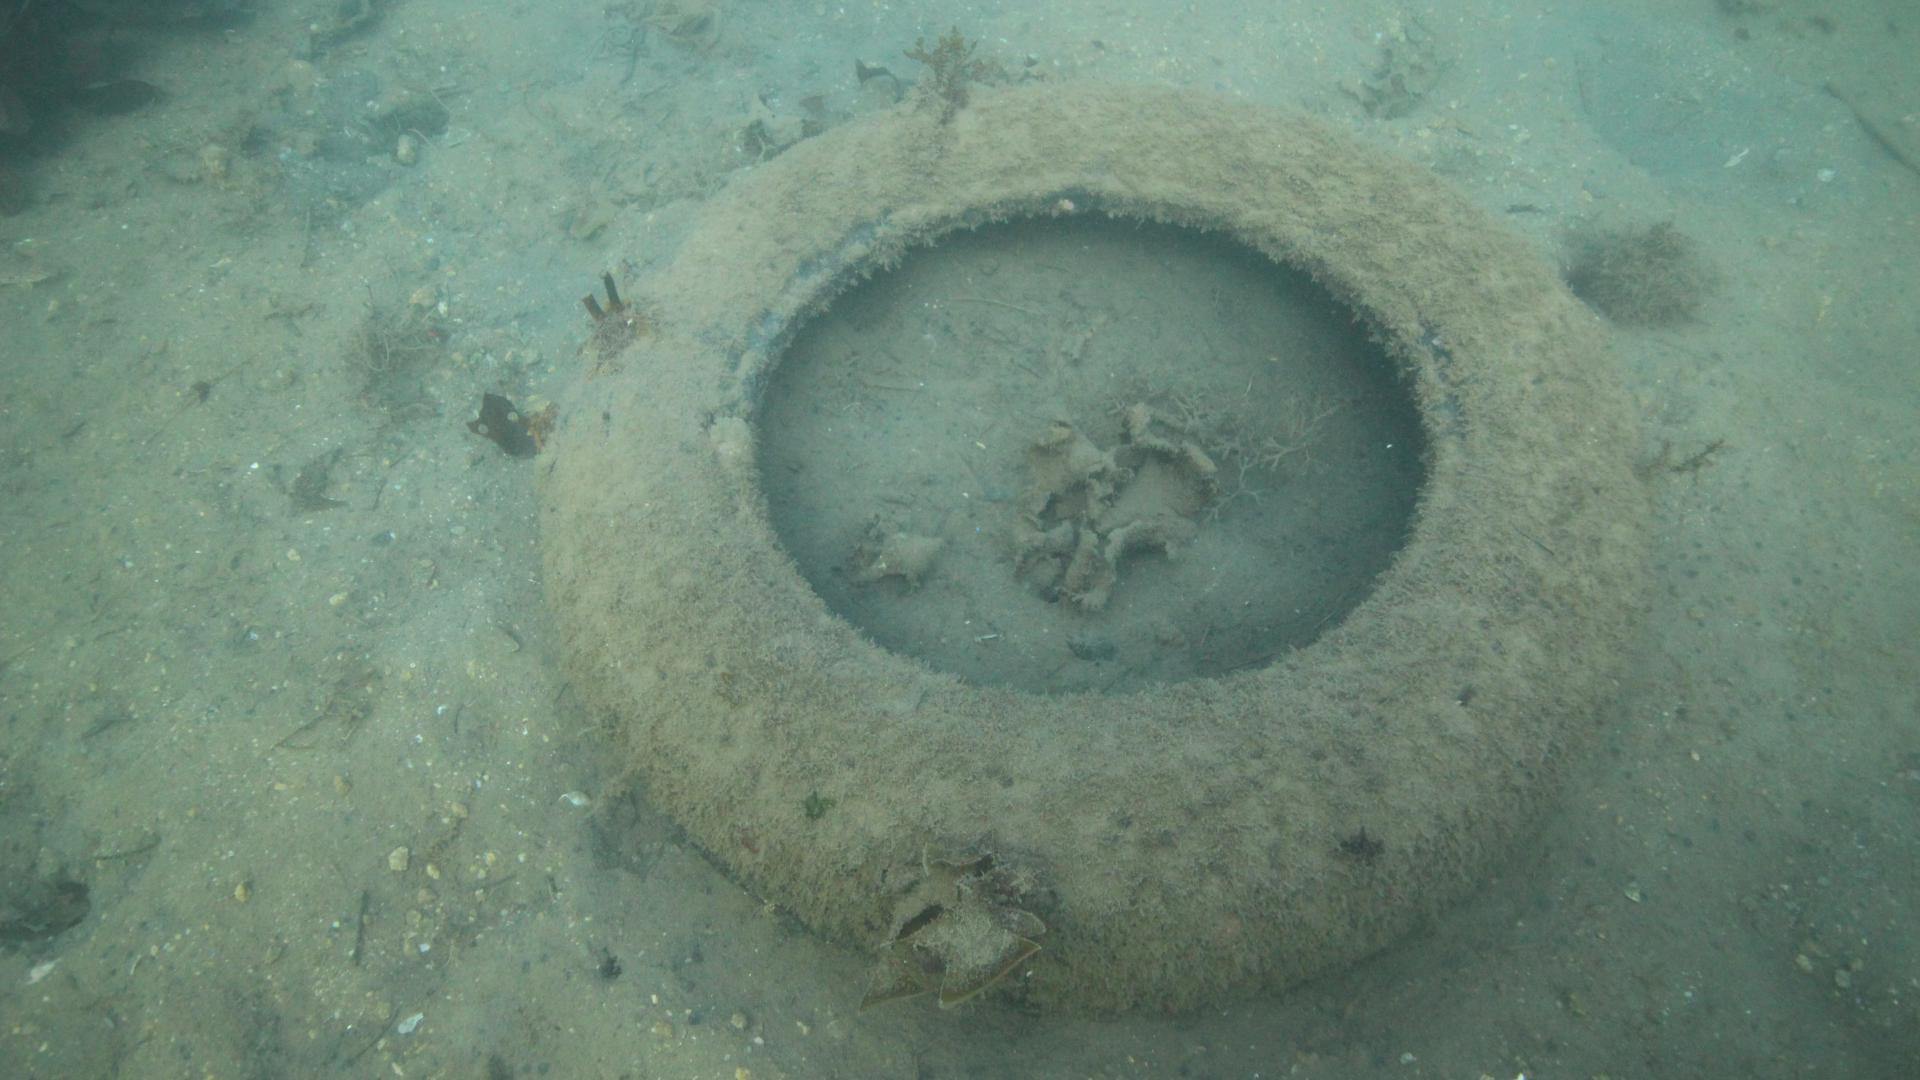tire: (535, 78, 1654, 1023)
